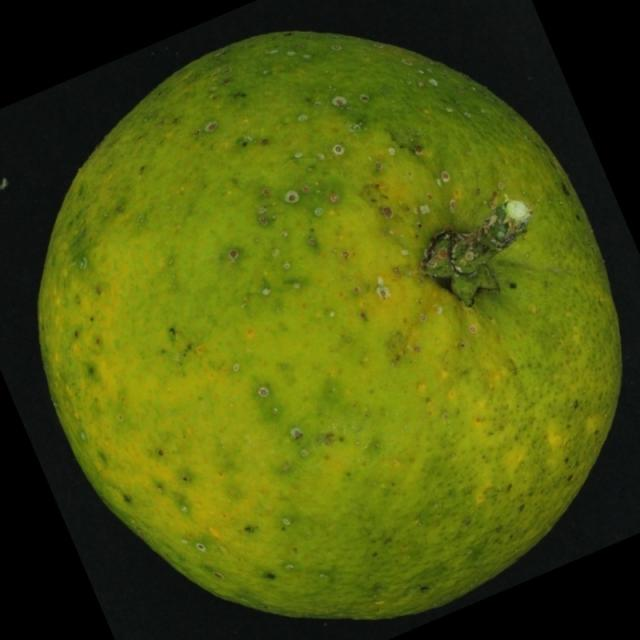grenning: (24, 26, 634, 629)
